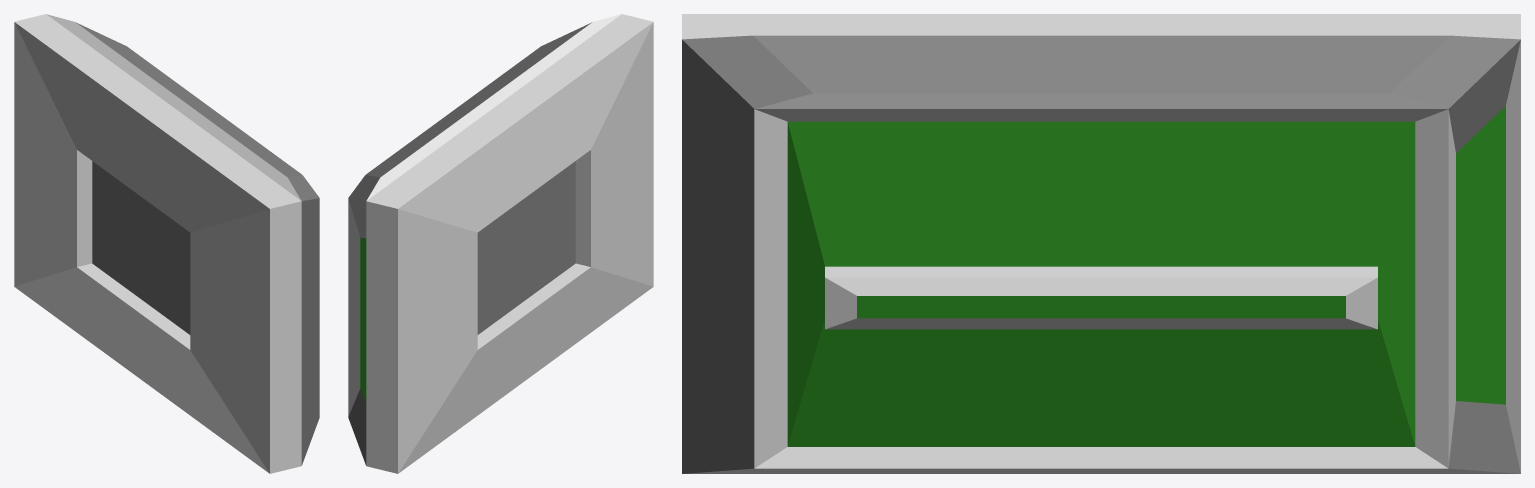
Rendered from Keycard_01.fbx.
3 renders of one model, left to right at view 1: azimuth 30°, elevation 25°; view 2: azimuth 150°, elevation 25°; view 3: azimuth 270°, elevation 25°, orthographic. The views are drawn at different scales.
Visible parts, largest first — view 1: KeyCard_01; view 2: KeyCard_01; view 3: KeyCard_01.
Part boxes in pixels (x1,y1,x2,y2): KeyCard_01: [14, 14, 319, 473]; KeyCard_01: [348, 14, 653, 473]; KeyCard_01: [682, 14, 1520, 473].
Bounding box in the file's own units: 81.49 × 205 × 350.
